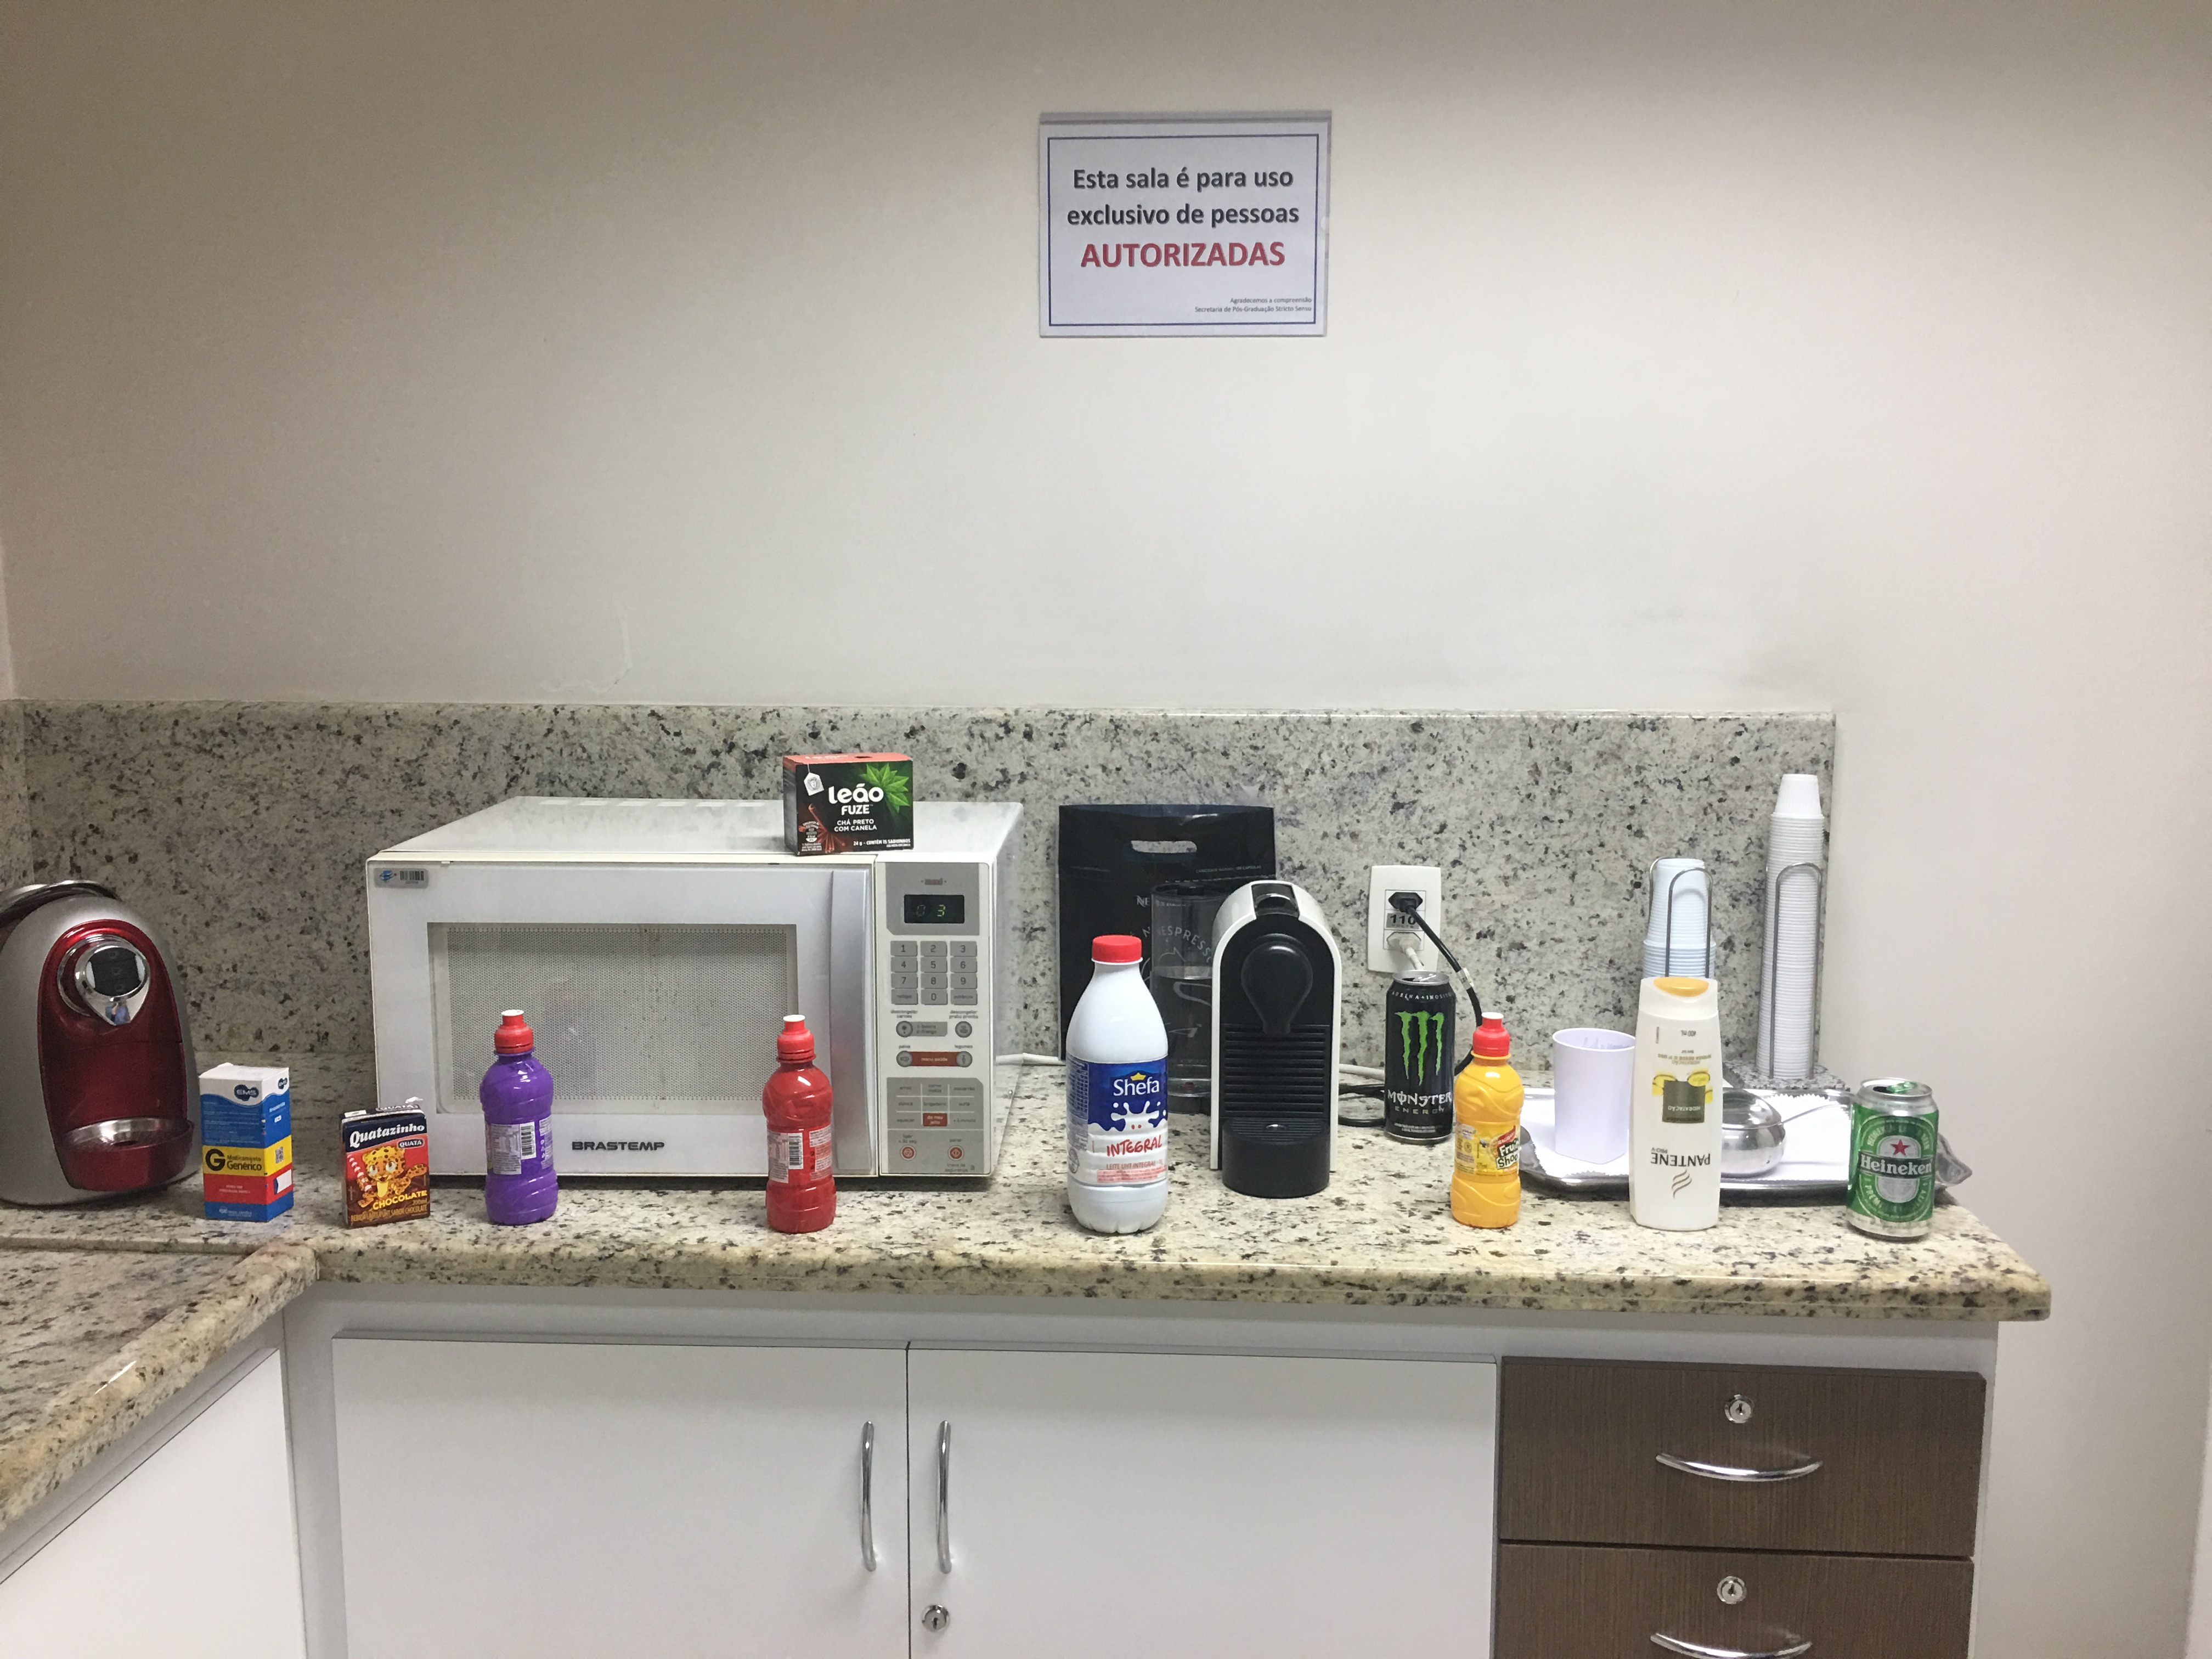chocolate_milk: (331, 1098, 439, 1230)
heineken: (1843, 1079, 1947, 1248)
medicine: (192, 1053, 300, 1225)
milk_bottle: (1057, 929, 1177, 1241)
monster: (1381, 964, 1461, 1148)
purple_juice: (474, 1002, 566, 1234)
red_juice: (758, 1009, 843, 1239)
shampoo: (1629, 971, 1728, 1239)
tea_box: (777, 742, 920, 859)
yellow_juice: (1449, 1004, 1531, 1239)
